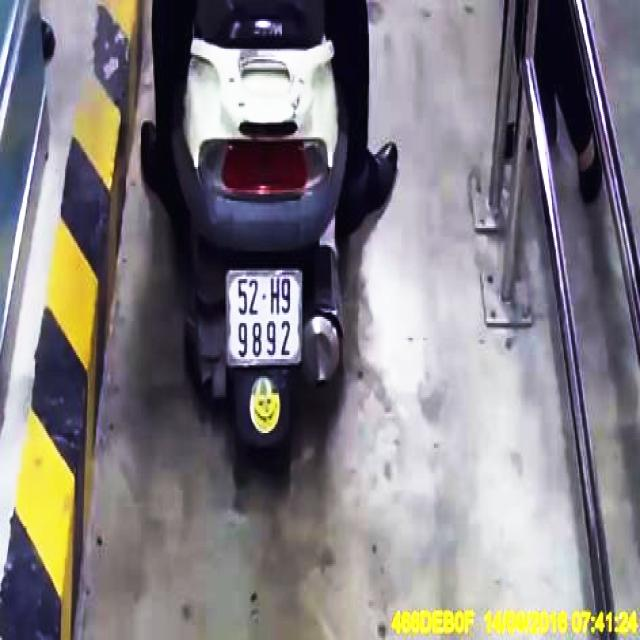license_plate: (229, 266, 303, 364)
